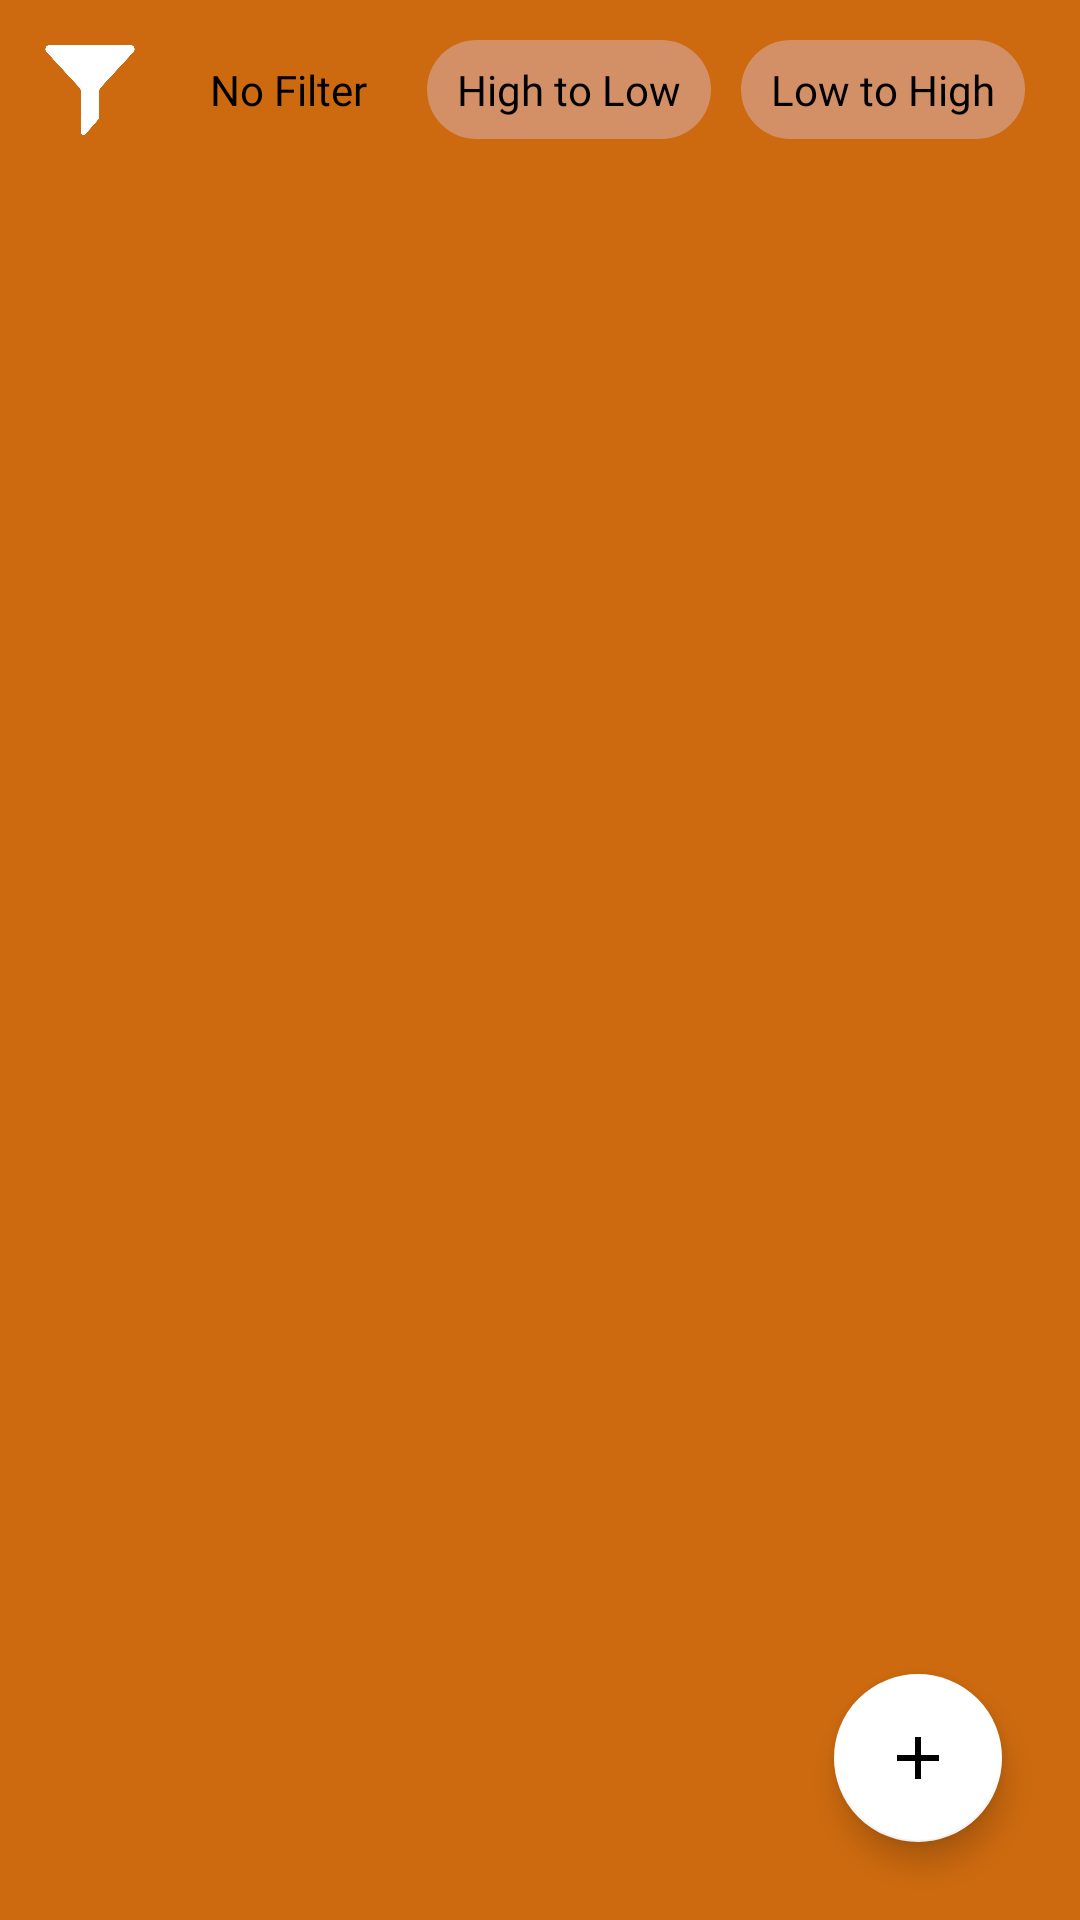

Where to tap for icons on this 1080px x 1920px app screen, as point (x, y):
add: point (918, 1758)
